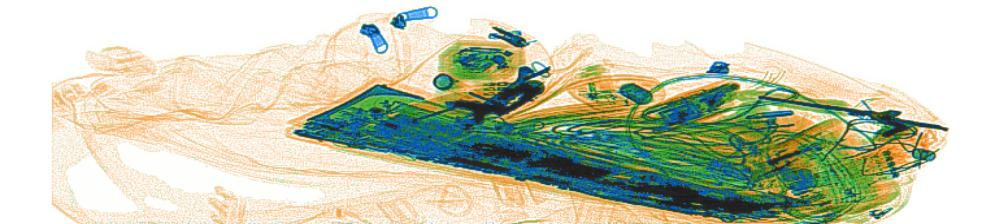battery: (618, 82, 654, 105)
